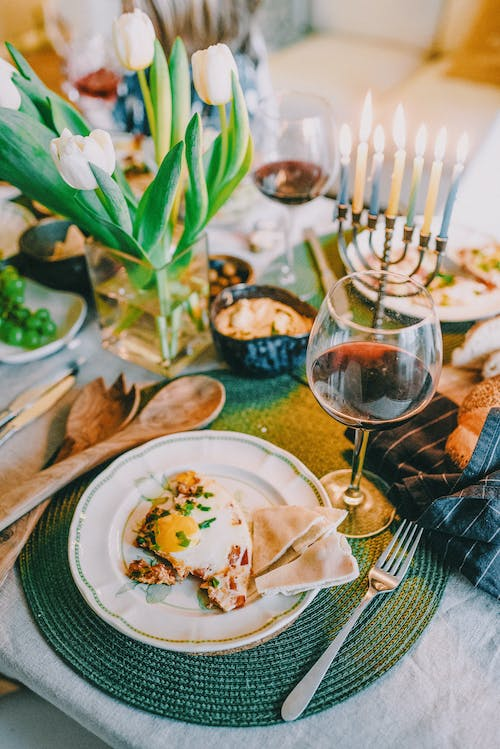alcohol: (303, 267, 445, 536), (247, 89, 342, 303)
knife: (0, 365, 82, 453), (0, 351, 89, 427)
